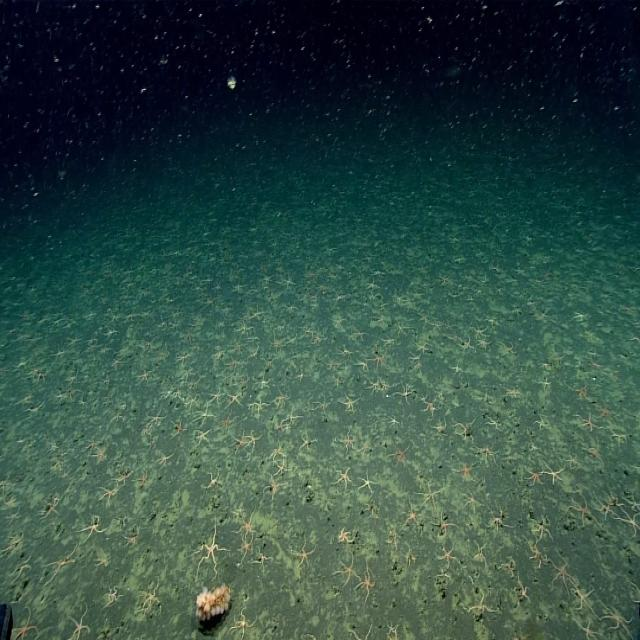brittle-stars: (196, 516, 225, 572), (602, 602, 632, 638), (48, 546, 78, 580), (567, 493, 592, 527), (12, 610, 38, 640), (66, 607, 89, 640), (551, 557, 572, 593), (466, 590, 494, 617), (139, 582, 161, 616), (79, 515, 106, 542), (232, 610, 256, 640), (571, 583, 594, 613), (356, 564, 375, 599), (618, 508, 640, 538), (419, 482, 441, 511), (337, 556, 358, 585), (292, 538, 314, 565), (525, 539, 545, 568), (530, 517, 552, 543), (541, 460, 564, 484), (595, 493, 615, 520), (452, 419, 475, 442), (438, 544, 460, 568), (597, 401, 618, 426), (403, 503, 421, 532), (577, 618, 600, 640), (453, 458, 474, 482), (487, 510, 508, 534), (238, 510, 257, 536), (434, 515, 456, 537), (389, 444, 410, 467), (41, 495, 61, 519), (336, 468, 354, 493), (358, 471, 376, 496), (580, 411, 600, 433), (514, 580, 532, 604), (478, 445, 498, 466), (397, 381, 415, 403), (462, 489, 479, 512), (265, 478, 284, 498), (525, 465, 543, 486), (630, 576, 640, 613), (100, 484, 118, 504), (313, 394, 331, 414), (196, 405, 214, 425), (572, 382, 590, 402), (341, 391, 358, 412), (340, 430, 357, 451), (300, 429, 316, 451), (422, 394, 438, 416), (257, 548, 273, 570), (240, 535, 255, 558), (148, 408, 166, 427), (94, 551, 112, 570), (339, 526, 356, 546), (274, 458, 291, 478), (206, 470, 222, 491), (106, 584, 120, 608), (249, 397, 267, 415), (486, 414, 503, 433), (124, 528, 141, 547), (349, 626, 372, 640), (196, 427, 212, 446), (357, 439, 373, 458), (275, 388, 290, 408), (233, 433, 247, 454), (158, 451, 175, 468), (237, 320, 254, 337), (433, 418, 449, 436), (372, 350, 387, 369), (136, 470, 150, 490), (450, 356, 464, 376), (228, 391, 244, 408), (507, 384, 523, 401), (332, 312, 348, 329), (322, 360, 338, 377), (392, 288, 408, 305), (172, 419, 187, 437), (116, 467, 131, 485), (327, 355, 342, 373), (220, 413, 234, 432), (246, 429, 260, 448), (94, 446, 108, 465), (67, 333, 83, 349), (352, 327, 367, 344), (271, 336, 286, 353), (184, 392, 199, 409), (138, 368, 152, 386), (209, 387, 223, 405), (537, 376, 552, 392), (458, 337, 473, 353), (473, 322, 489, 337), (86, 438, 101, 454), (271, 445, 285, 462), (477, 336, 492, 351), (250, 306, 264, 322), (416, 339, 430, 355), (355, 357, 369, 372), (365, 278, 378, 294), (110, 355, 124, 369), (302, 323, 315, 338), (373, 266, 386, 281), (313, 331, 325, 347), (275, 419, 287, 434), (389, 415, 400, 428)
